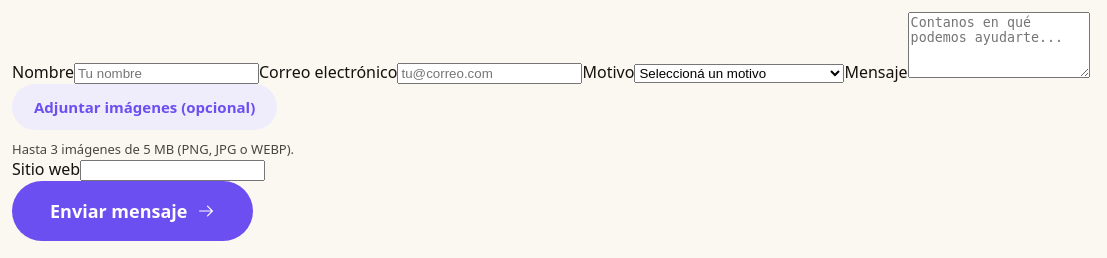
Test: FormularioDeContacto › envía como mensaje de contacto, con el motivo en su propio campo, y agradece
Type "Ana" into the field labelled "Nombre".
click(166, 74); type("Ana")  # box [74, 63, 259, 84]
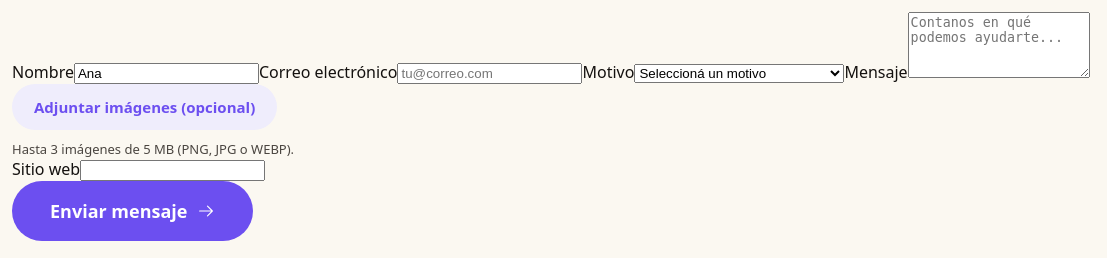
Type "ana@correo.com" into the field labelled "Correo electrónico".
click(490, 74); type("ana@correo.com")  # box [398, 63, 582, 84]
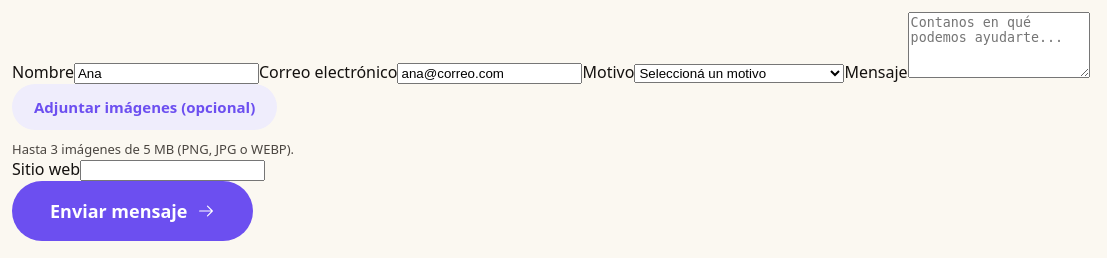
Select "Algo no funciona" in the dropdown labelled "Motivo" at coordinates (739, 74), box [634, 64, 844, 83]
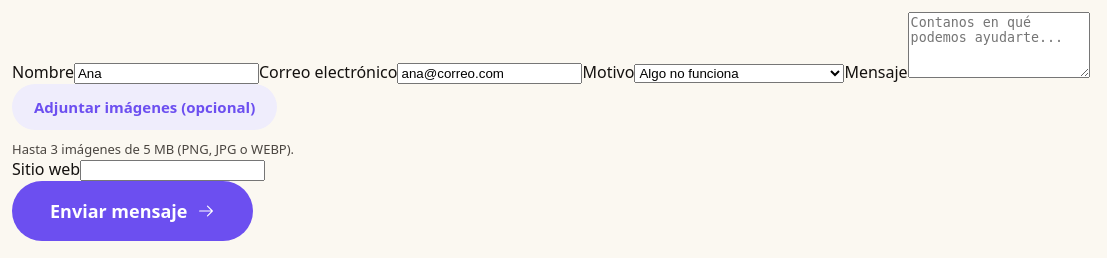
Type "Se cuelga la reproducción en el celular." into the text box labelled "Mensaje".
click(999, 45); type("Se cuelga la reproducción en el celular.")  # box [908, 12, 1090, 78]
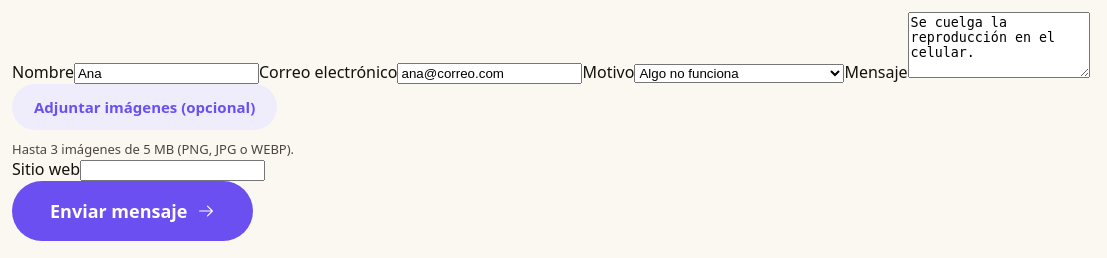
Click the button "Enviar mensaje".
click(133, 211)  # box [12, 181, 254, 241]
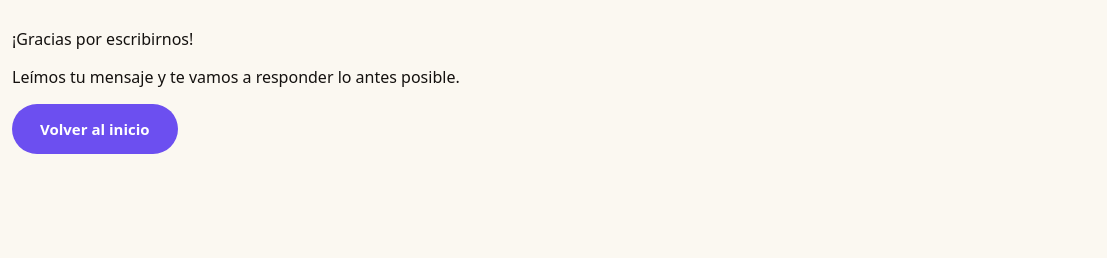
Expected: the text "¡Gracias por escribirnos!" is shown, [12, 28, 193, 50]
